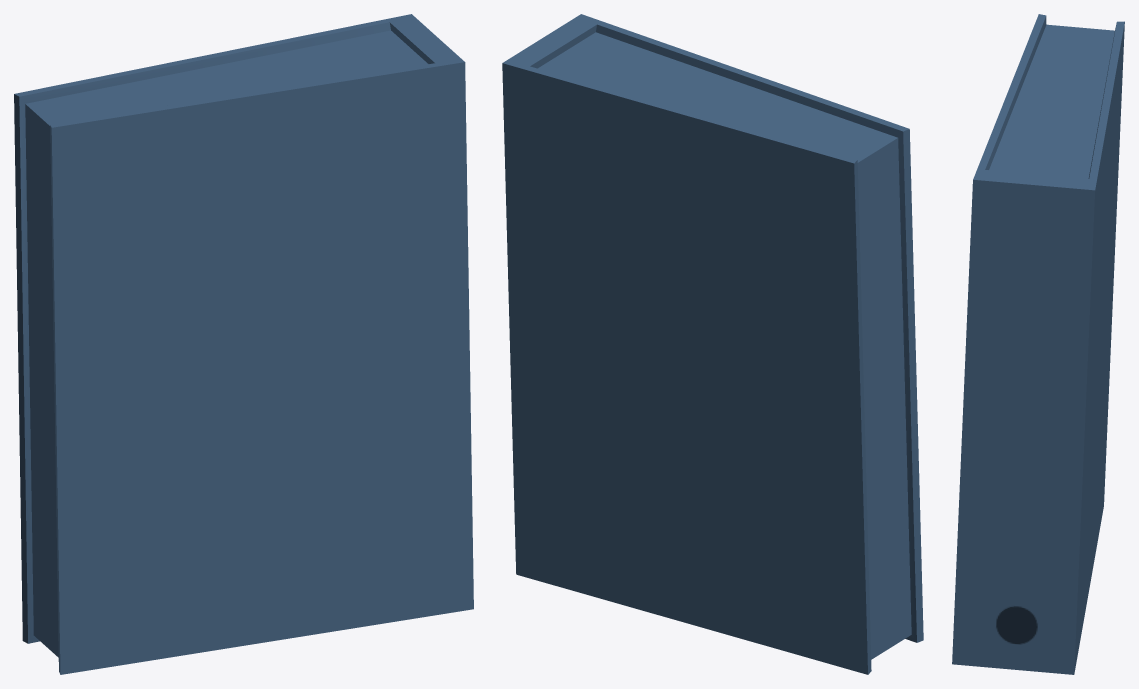
The model's file is office_file05_cube.fbx.
3 renders of one model, left to right at view 1: azimuth 30°, elevation 25°; view 2: azimuth 150°, elevation 25°; view 3: azimuth 270°, elevation 25°, orthographic. The views are drawn at different scales.
Visible parts, largest first — view 1: office_file05_cube; view 2: office_file05_cube; view 3: office_file05_cube.
Part boxes in pixels (x1=…): office_file05_cube: x1=14, y1=14, x2=473, y2=674; office_file05_cube: x1=502, y1=14, x2=923, y2=674; office_file05_cube: x1=952, y1=14, x2=1124, y2=674.
Bounding box in the file's own units: 1.27 × 1.67 × 0.5324.
